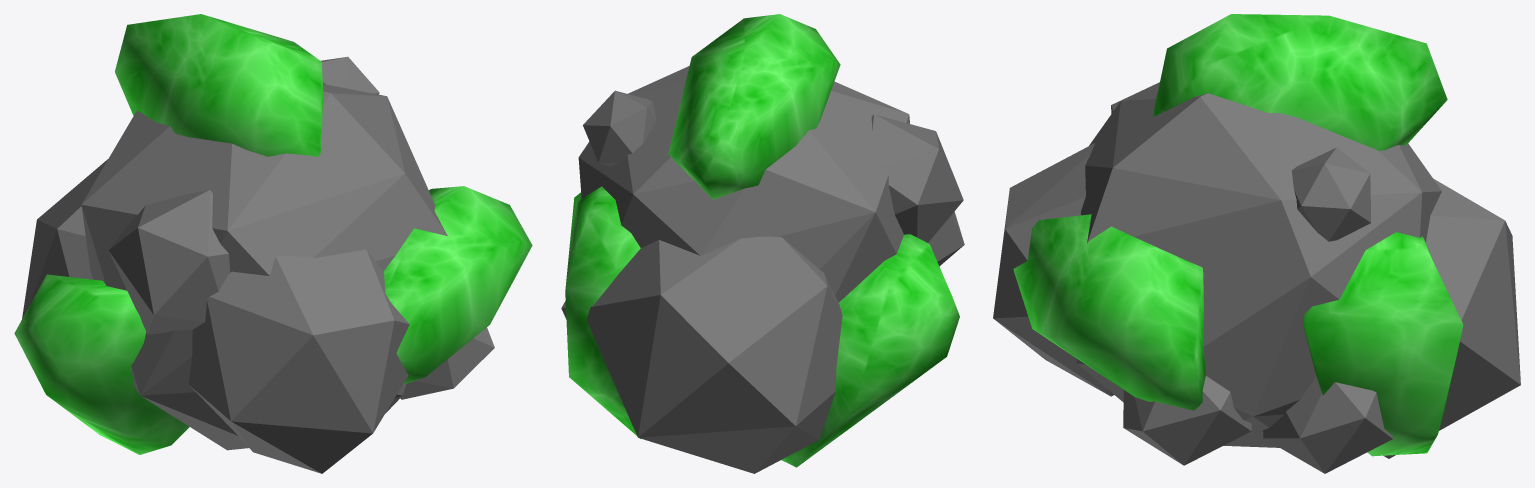
File: EarthstoneOre_blender.fbx
3 views of the same model, side by side, from view 1: azimuth 30°, elevation 25°; view 2: azimuth 150°, elevation 25°; view 3: azimuth 270°, elevation 25° (orthographic). The views are drawn at different scales.
Visible parts, largest first — view 1: StoneOre.037, EarthstoneParticle.031; view 2: StoneOre.037, EarthstoneParticle.031; view 3: StoneOre.037, EarthstoneParticle.031.
Part boxes in pixels (<box>): StoneOre.037: <box>22,56,494,473</box>; EarthstoneParticle.031: <box>14,14,532,454</box>; StoneOre.037: <box>561,66,964,473</box>; EarthstoneParticle.031: <box>565,14,959,467</box>; StoneOre.037: <box>993,82,1520,473</box>; EarthstoneParticle.031: <box>1013,14,1463,456</box>.
Bounding box in the file's own units: 253 × 252 × 274.
